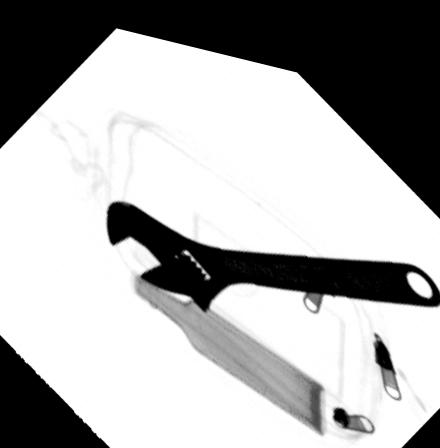Wrench: (103, 191, 440, 308)
